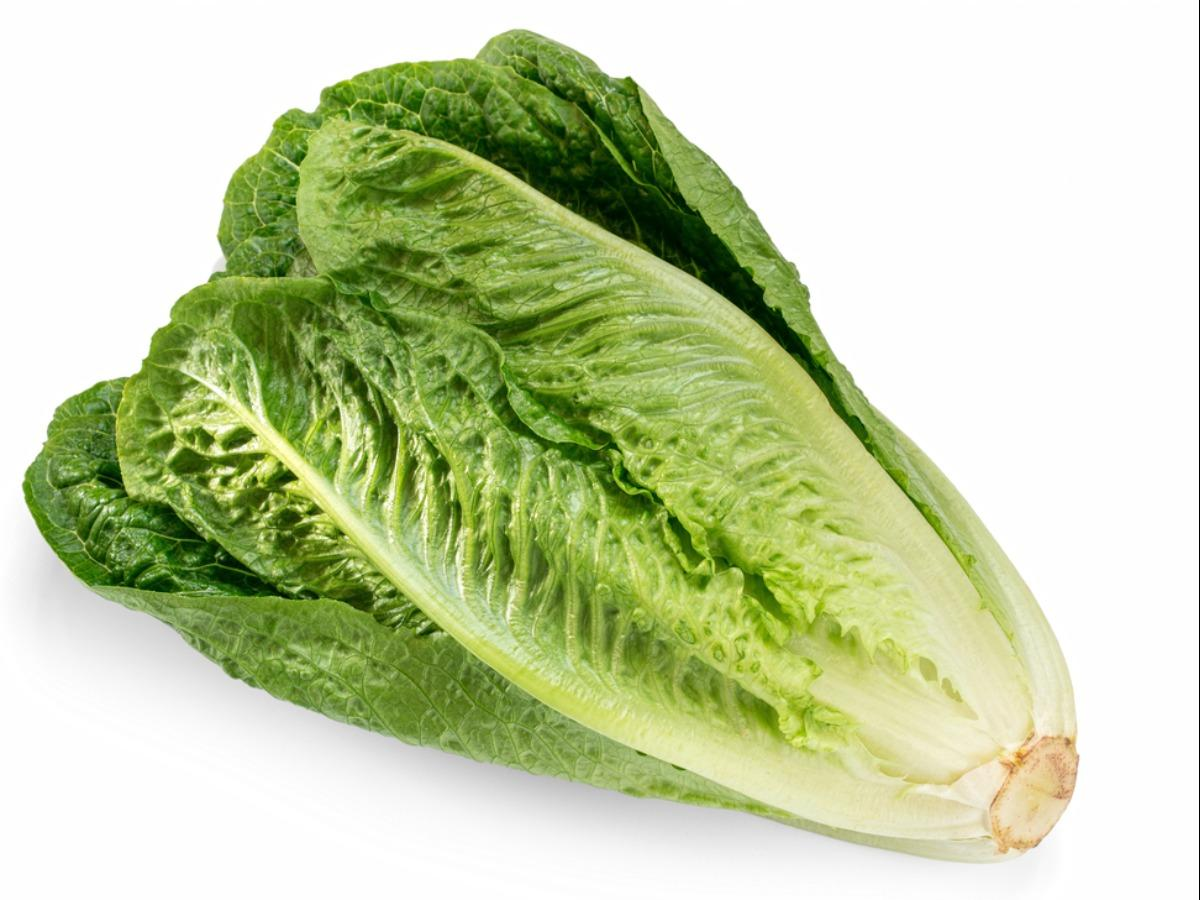Lettuce: (19, 18, 1100, 885)
